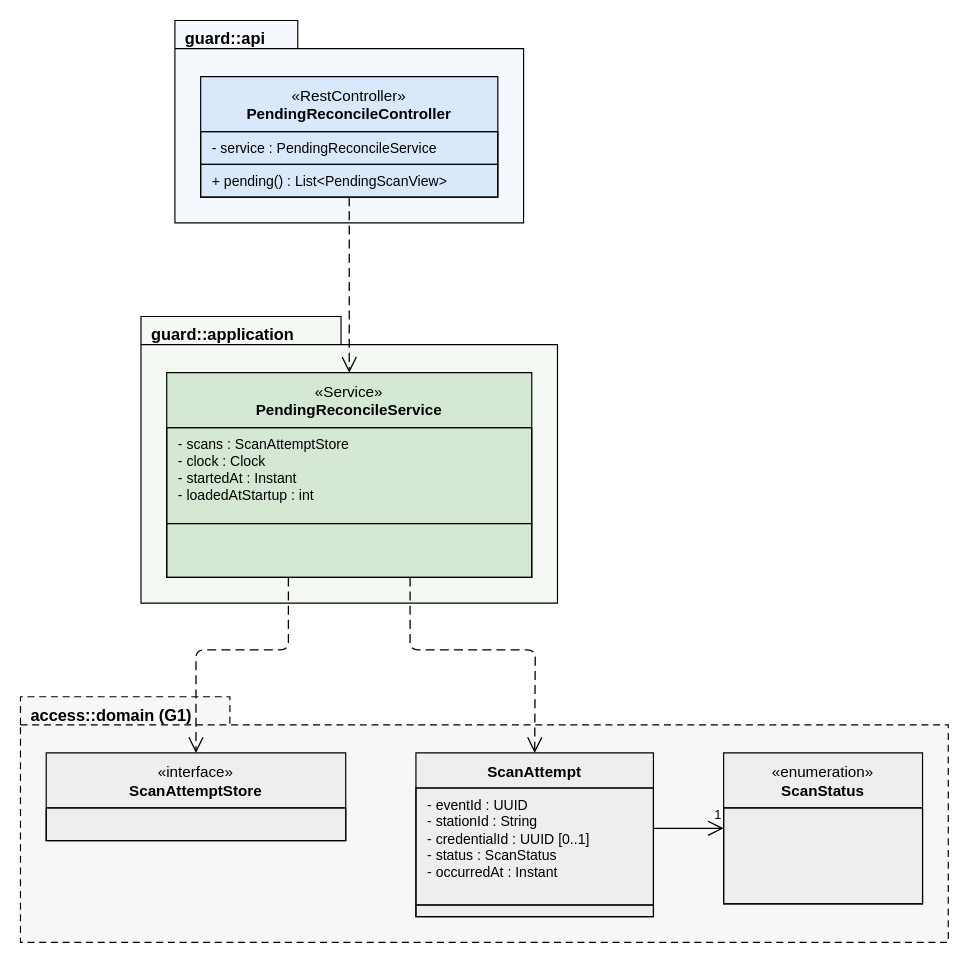
Some shapes in this 969 by 963 pixel diagram are drawn without their labels. Here are the shapes that lost their labels. From the top down, the centre of each, then its label:
At (x=349, y=549): "+ onStartup() : void {ApplicationReadyEvent} + listPending() : List<ScanAttempt>".
At (x=195, y=824): "+ findPending() : List<ScanAttempt>".
At (x=822, y=855): "PENDING ACCEPTED REJECTED GATE_FAILED".
